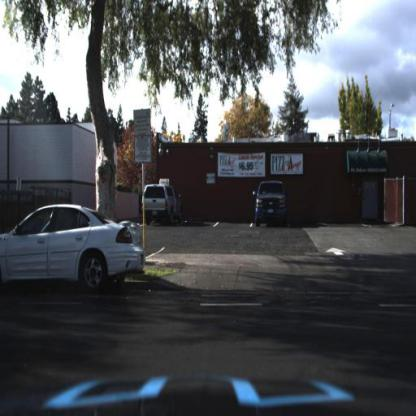car: (1, 195, 148, 293), (250, 177, 294, 234), (137, 179, 188, 227)
